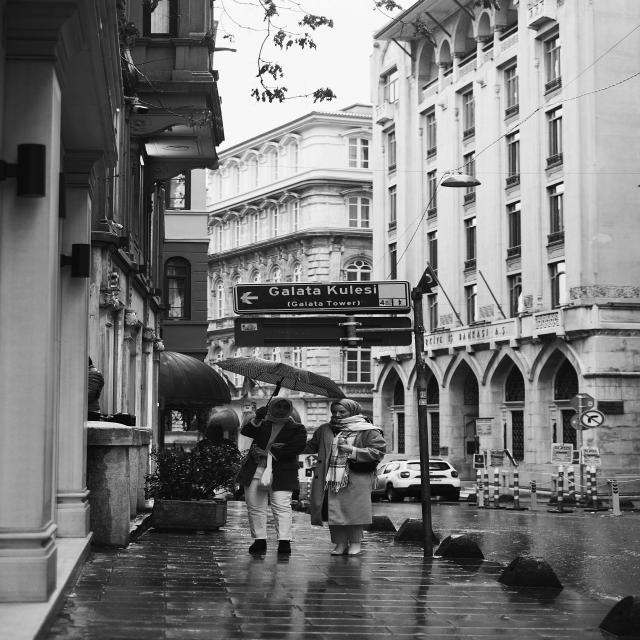stand: (301, 396, 389, 578), (241, 382, 304, 574)
